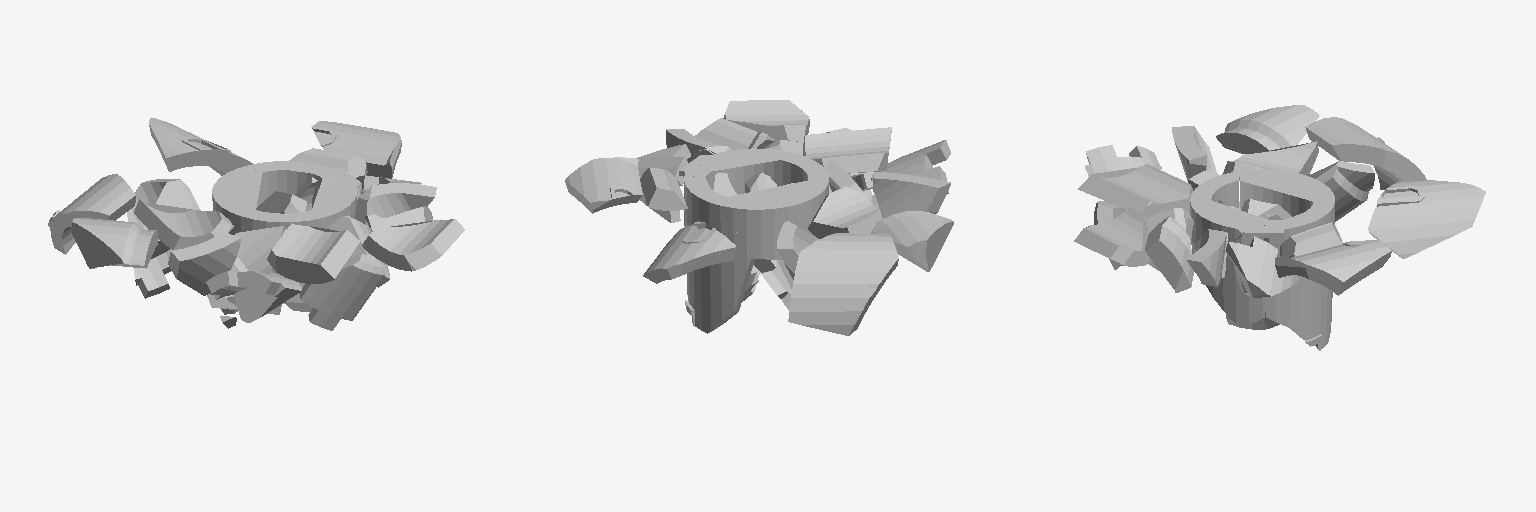
The model's file is destruction_tower_000069.obj.
The picture shows the model from 3 angles: view 1: azimuth 30°, elevation 25°; view 2: azimuth 150°, elevation 25°; view 3: azimuth 270°, elevation 25°; orthographic projection.
Parts seen in each view (by area): view 1: tower.001_cell.024_Mesh.024, tower.001_cell.011_Mesh.011, tower.001_cell.021_Mesh.021, tower.001_cell.005_Mesh.005, tower.001_cell.003_Mesh.003, tower.001_cell.012_Mesh.012, tower.001_cell.006_Mesh.006, tower.001_cell.009_Mesh.009, tower.001_cell.007_Mesh.007, tower.001_cell.025_Mesh.025, tower.001_cell.002_Mesh.002, tower.001_cell.028_Mesh.028 (+9 smaller); view 2: tower.001_cell.003_Mesh.003, tower.001_cell.017_Mesh.017, tower.001_cell.015_Mesh.015, tower.001_cell.012_Mesh.012, tower.001_cell.025_Mesh.025, tower.001_cell.024_Mesh.024, tower.001_cell.028_Mesh.028, tower.001_cell.005_Mesh.005, tower.001_cell.002_Mesh.002, tower.001_cell.021_Mesh.021, tower.001_cell.009_Mesh.009, tower.001_cell.016_Mesh.016 (+8 smaller); view 3: tower.001_cell.025_Mesh.025, tower.001_cell.024_Mesh.024, tower.001_cell.003_Mesh.003, tower.001_cell.012_Mesh.012, tower.001_cell.017_Mesh.017, tower.001_cell.005_Mesh.005, tower.001_cell.015_Mesh.015, tower.001_cell.021_Mesh.021, tower.001_cell.030_Mesh.030, tower.001_cell_Mesh, tower.001_cell.028_Mesh.028, tower.001_cell.020_Mesh.020 (+11 smaller).
Boxes of the visible parts, box(x1,y1,x2,y2) form: tower.001_cell.024_Mesh.024: box(267, 223, 359, 283); tower.001_cell.011_Mesh.011: box(299, 254, 384, 330); tower.001_cell.021_Mesh.021: box(362, 219, 464, 271); tower.001_cell.005_Mesh.005: box(72, 218, 157, 268); tower.001_cell.003_Mesh.003: box(48, 174, 135, 254); tower.001_cell.012_Mesh.012: box(311, 121, 401, 178); tower.001_cell.006_Mesh.006: box(206, 271, 301, 322); tower.001_cell.009_Mesh.009: box(134, 199, 233, 249); tower.001_cell.007_Mesh.007: box(127, 179, 199, 298); tower.001_cell.025_Mesh.025: box(149, 118, 252, 175); tower.001_cell.002_Mesh.002: box(168, 232, 240, 295); tower.001_cell.028_Mesh.028: box(282, 178, 361, 229); tower.001_cell.003_Mesh.003: box(788, 233, 898, 335); tower.001_cell.017_Mesh.017: box(684, 175, 754, 333); tower.001_cell.015_Mesh.015: box(723, 180, 827, 259); tower.001_cell.012_Mesh.012: box(565, 157, 642, 213); tower.001_cell.025_Mesh.025: box(643, 221, 736, 283); tower.001_cell.024_Mesh.024: box(803, 127, 891, 175); tower.001_cell.028_Mesh.028: box(700, 148, 816, 194); tower.001_cell.005_Mesh.005: box(871, 211, 953, 271); tower.001_cell.002_Mesh.002: box(872, 172, 950, 218); tower.001_cell.021_Mesh.021: box(723, 100, 809, 141); tower.001_cell.009_Mesh.009: box(808, 186, 881, 238); tower.001_cell.016_Mesh.016: box(640, 168, 687, 210); tower.001_cell.025_Mesh.025: box(1368, 180, 1485, 258); tower.001_cell.024_Mesh.024: box(1078, 164, 1192, 217); tower.001_cell.003_Mesh.003: box(1305, 117, 1426, 190); tower.001_cell.012_Mesh.012: box(1275, 240, 1391, 295); tower.001_cell.017_Mesh.017: box(1289, 199, 1334, 350); tower.001_cell.005_Mesh.005: box(1216, 105, 1319, 153); tower.001_cell.015_Mesh.015: box(1240, 169, 1334, 216); tower.001_cell.021_Mesh.021: box(1074, 208, 1148, 266); tower.001_cell.030_Mesh.030: box(1225, 236, 1298, 297); tower.001_cell_Mesh: box(1145, 216, 1193, 292); tower.001_cell.028_Mesh.028: box(1190, 186, 1269, 253); tower.001_cell.020_Mesh.020: box(1206, 227, 1268, 326).
Size of the model in its own units: 117 by 44.68 by 121.